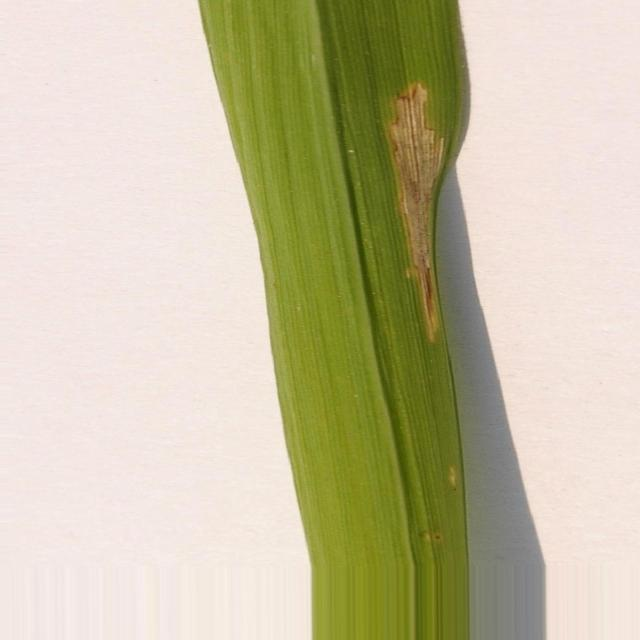Bacterial_Leaf_Blight: (388, 82, 445, 341)
